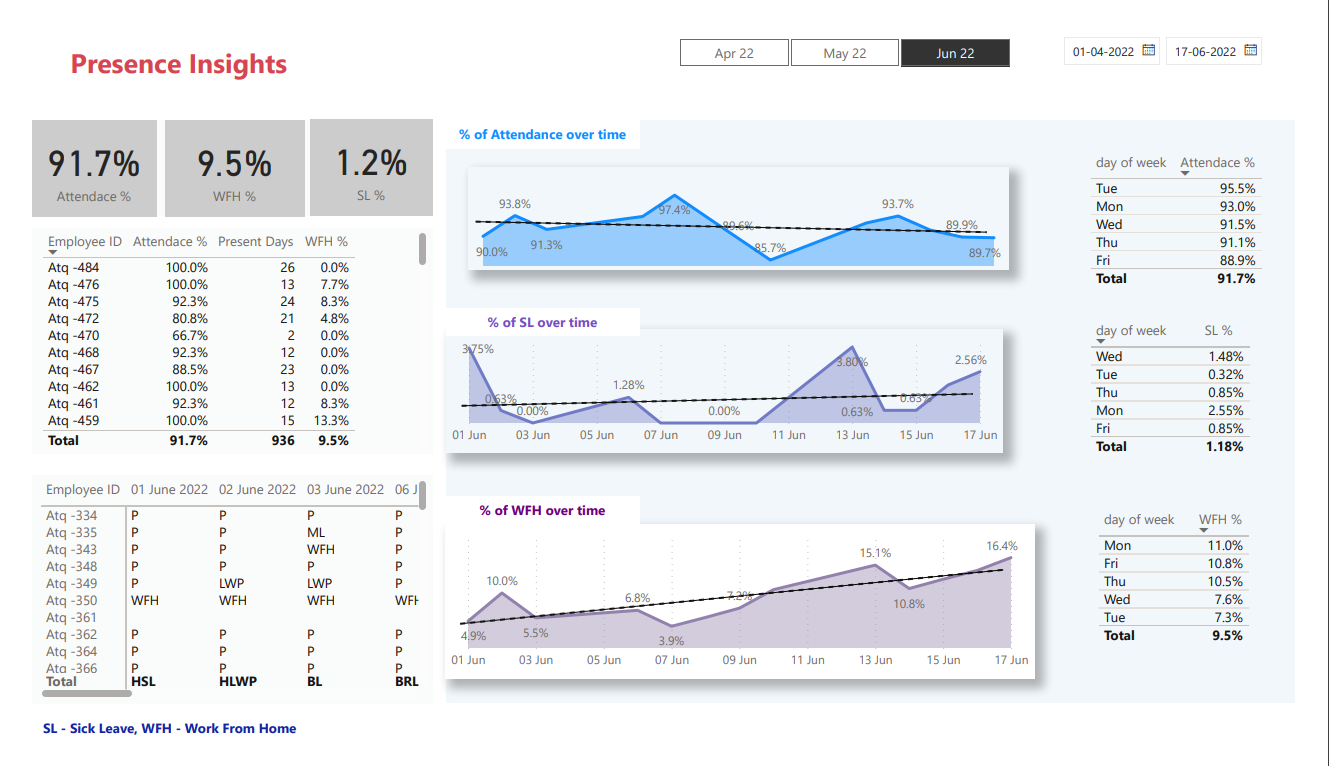

The dashboard page shown, as its layout file describes it:
{"tool":"powerbi","page":{"name":"Presence Insights","canvas":[1280,720],"ordinal":0},"visuals":[{"type":"textbox","box":[7.8,205.6,399.9,225.5],"z":0},{"type":"textbox","box":[7.8,453.3,399.8,227.6],"z":1000},{"type":"textbox","box":[422.3,97.9,848.1,582.3],"z":2000},{"type":"textbox","box":[7.8,98,399.9,95.4],"z":3000},{"type":"tableEx","fields":{"Values":["Final Data.Employee ID","Measures (2).Attendace %","Measures (2).Present Days","Measures (2).WFH %"]},"box":[12.6,205.2,394.9,225.7],"z":4000},{"type":"slicer","fields":{"Values":["Final Data.Date"]},"box":[1027.3,5.2,252.7,46.3],"z":5000},{"type":"slicer","fields":{"Values":["Final Data.MMM YY"]},"box":[630.4,10.5,379.5,35.8],"z":6000},{"type":"areaChart","fields":{"Category":["Final Data.MMM YY","Final Data.Date"],"Y":["Measures (2).WFH %"]},"box":[420.7,502.3,589,153.5],"z":7000},{"type":"areaChart","fields":{"Category":["Final Data.WeekNo","Final Data.Date"],"Y":["Measures (2).Attendace %"]},"box":[444.1,144.9,540.4,103.2],"z":8000},{"type":"card","fields":{"Values":["Measures (2).Attendace %"]},"box":[7.8,98,124,96.3],"z":9000},{"type":"card","fields":{"Values":["Measures (2).WFH %"]},"box":[141.4,98,138.8,96.3],"z":10000},{"type":"areaChart","fields":{"Category":["Final Data.MMM YY","Final Data.Date"],"Y":["Measures (2).SL %"]},"box":[422.5,307.1,556,124],"z":11000},{"type":"card","fields":{"Values":["Measures (2).SL %"]},"box":[286.3,97.2,121.4,96.3],"z":13000},{"type":"textbox","box":[0,0,309.9,65.4],"z":14000},{"type":"textbox","box":[422.4,98.2,192.5,27.5],"z":15000},{"type":"textbox","box":[422.5,286.3,192.6,26.9],"z":16000},{"type":"textbox","box":[422.1,473.7,192.6,27.2],"z":17000},{"type":"pivotTable","fields":{"Rows":["Final Data.Employee ID"],"Columns":["Final Data.Date"],"Values":["Min(Final Data.Value)"]},"box":[11.7,453.3,395.9,227.6],"z":18000},{"type":"textbox","box":[13.6,691.6,289.8,28.2],"z":19000},{"type":"tableEx","fields":{"Values":["Final Data.day of week","Measures (2).Attendace %"]},"box":[1060.9,125.8,209.9,145.7],"z":20000},{"type":"tableEx","fields":{"Values":["Final Data.day of week","Measures (2).SL %"]},"box":[1060.9,294.1,191.7,167.4],"z":21000},{"type":"tableEx","fields":{"Values":["Final Data.day of week","Measures (2).WFH %"]},"box":[1068.7,483.2,170,167.4],"z":22000}]}

Visuals, with their boxes in screenshot pixels (x1, y1, x2, y2), scaled from the page's 1280x720 canvas onto the 1329x766 screenshot:
textbox: {"x1": 8, "y1": 219, "x2": 423, "y2": 459}
textbox: {"x1": 8, "y1": 482, "x2": 423, "y2": 724}
textbox: {"x1": 438, "y1": 104, "x2": 1319, "y2": 724}
textbox: {"x1": 8, "y1": 104, "x2": 423, "y2": 206}
tableEx - Final Data.Employee ID x Measures (2).Attendace %: {"x1": 13, "y1": 218, "x2": 423, "y2": 458}
slicer - Final Data.Date: {"x1": 1067, "y1": 6, "x2": 1328, "y2": 55}
slicer - Final Data.MMM YY: {"x1": 655, "y1": 11, "x2": 1049, "y2": 49}
areaChart - Final Data.MMM YY x Final Data.Date: {"x1": 437, "y1": 534, "x2": 1048, "y2": 698}
areaChart - Final Data.WeekNo x Final Data.Date: {"x1": 461, "y1": 154, "x2": 1022, "y2": 264}
card - Measures (2).Attendace %: {"x1": 8, "y1": 104, "x2": 137, "y2": 207}
card - Measures (2).WFH %: {"x1": 147, "y1": 104, "x2": 291, "y2": 207}
areaChart - Final Data.MMM YY x Final Data.Date: {"x1": 439, "y1": 327, "x2": 1016, "y2": 459}
card - Measures (2).SL %: {"x1": 297, "y1": 103, "x2": 423, "y2": 206}
textbox: {"x1": 0, "y1": 0, "x2": 322, "y2": 70}
textbox: {"x1": 439, "y1": 104, "x2": 638, "y2": 134}
textbox: {"x1": 439, "y1": 305, "x2": 639, "y2": 333}
textbox: {"x1": 438, "y1": 504, "x2": 638, "y2": 533}
pivotTable - Final Data.Employee ID x Final Data.Date: {"x1": 12, "y1": 482, "x2": 423, "y2": 724}
textbox: {"x1": 14, "y1": 736, "x2": 315, "y2": 765}
tableEx - Final Data.day of week x Measures (2).Attendace %: {"x1": 1102, "y1": 134, "x2": 1319, "y2": 289}
tableEx - Final Data.day of week x Measures (2).SL %: {"x1": 1102, "y1": 313, "x2": 1301, "y2": 491}
tableEx - Final Data.day of week x Measures (2).WFH %: {"x1": 1110, "y1": 514, "x2": 1286, "y2": 692}
